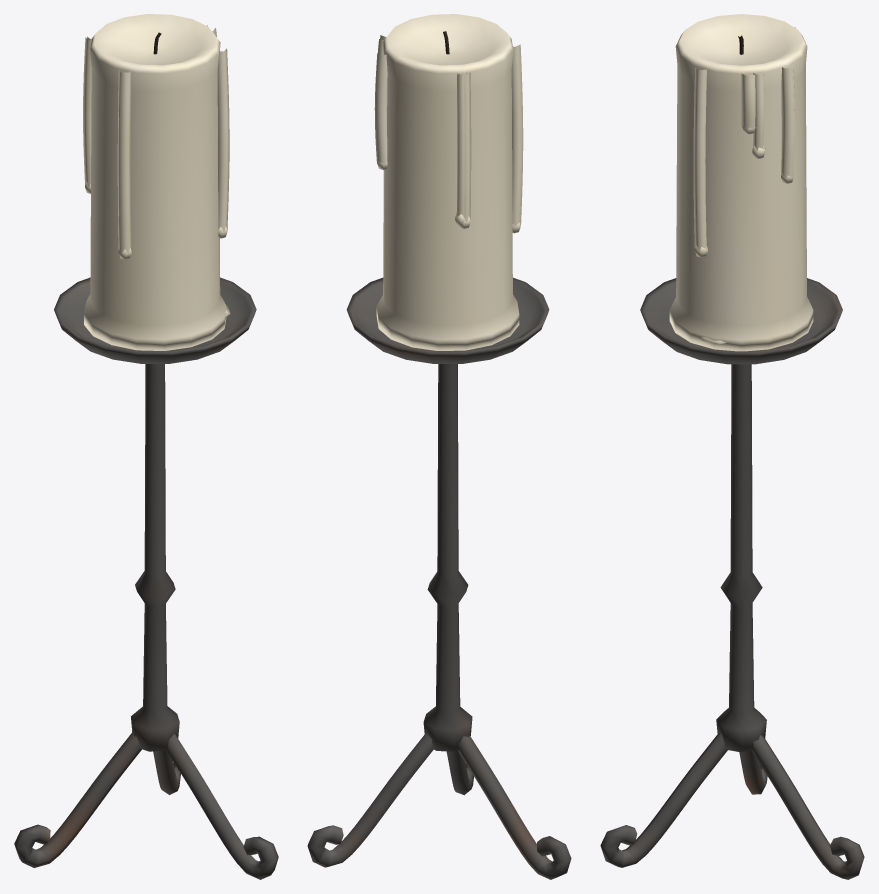
File: mech_candle_b.glb
3 views of the same model, side by side, from view 1: azimuth 30°, elevation 25°; view 2: azimuth 150°, elevation 25°; view 3: azimuth 270°, elevation 25° (orthographic).
Parts seen in each view (by area): view 1: mech_candle_b_LOD0; view 2: mech_candle_b_LOD0; view 3: mech_candle_b_LOD0.
Part boxes in pixels (x1,y1,x2,y2): mech_candle_b_LOD0: (14,14,278,879); mech_candle_b_LOD0: (307,14,571,879); mech_candle_b_LOD0: (600,14,864,879).
Size of what is drawn, in the model's own units: 0.594 by 2.12 by 0.6252.
